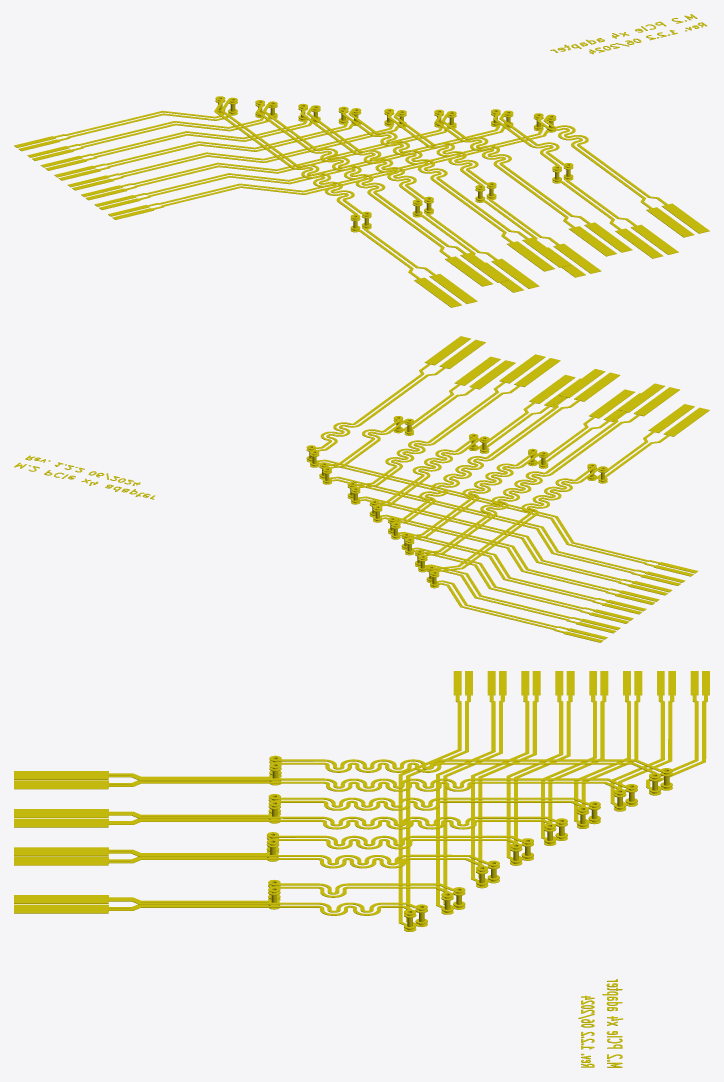
The model's file is m2-pcie-adapter-hs.glb.
The picture shows the model from 3 angles, top to bottom: view 1: azimuth 30°, elevation 25°; view 2: azimuth 150°, elevation 25°; view 3: azimuth 270°, elevation 25°; orthographic projection. The views are drawn at different scales.
Parts seen in each view (by area): view 1: =>[0:1:1:2], =>[0:1:1:3], =>[0:1:1:4]; view 2: =>[0:1:1:2], =>[0:1:1:3], =>[0:1:1:4]; view 3: =>[0:1:1:2], =>[0:1:1:3], =>[0:1:1:4].
Boxes of the visible parts, <box> form: =>[0:1:1:2]: <box>38,14,706,293</box>; =>[0:1:1:3]: <box>14,136,709,307</box>; =>[0:1:1:4]: <box>218,97,570,230</box>; =>[0:1:1:2]: <box>14,363,687,637</box>; =>[0:1:1:3]: <box>424,336,709,642</box>; =>[0:1:1:4]: <box>309,417,604,586</box>; =>[0:1:1:2]: <box>108,682,707,1067</box>; =>[0:1:1:3]: <box>14,671,709,913</box>; =>[0:1:1:4]: <box>270,757,669,930</box>.
Size of the model in its own units: 0.0415 by 0.000867 by 0.0308.
